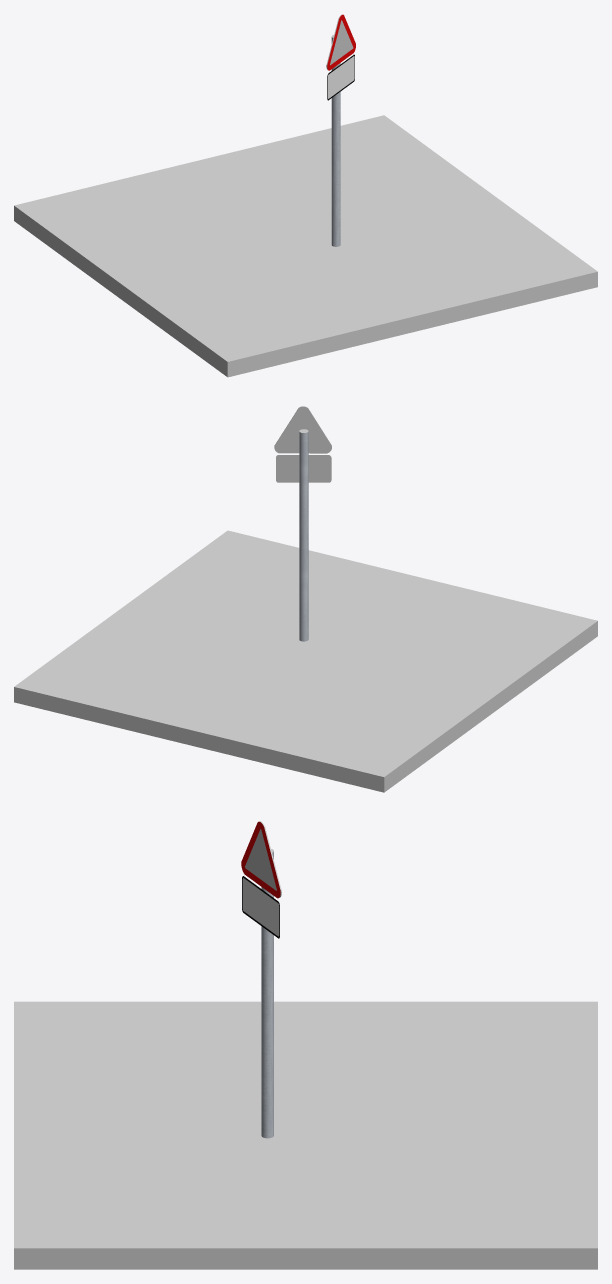
3 views of the same model, one above another, from view 1: azimuth 30°, elevation 25°; view 2: azimuth 150°, elevation 25°; view 3: azimuth 270°, elevation 25° (orthographic). The views are drawn at different scales.
Parts seen in each view (by area): view 1: Material2 (×3), Material3; view 2: Material2 (×4); view 3: Material2 (×4), Material3.
Part boxes in pixels (box(x1,y1,x2,y2)): Material2 (×3): box(14, 20, 597, 377); Material3: box(328, 56, 354, 98); Material2 (×4): box(14, 406, 597, 792); Material2 (×4): box(14, 821, 597, 1269); Material3: box(242, 878, 279, 936).
Size of the model in its own units: 197 by 125 by 197.
Materials: 5 (1 with a texture image).
